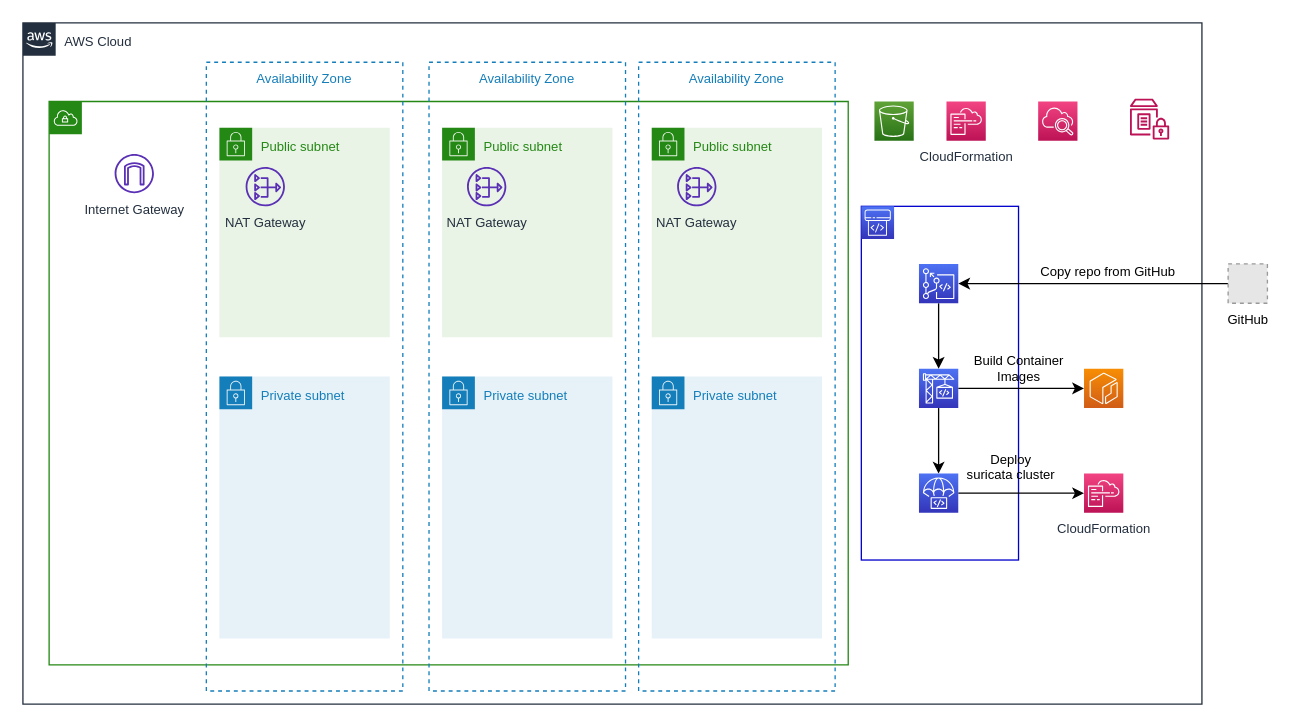
Some shapes in this 1290 by 727 pixel diagram are drawn without their labels. Grey dashed boxes stand in for pictures. Here are the shapes that lost their labels. From the top down, the box of each, then its label:
(873, 100, 914, 141): S3
(1037, 100, 1077, 141): Cloudwatch
(1129, 98, 1169, 139): Parameter Store
(918, 263, 958, 303): CodeCommit
(48, 100, 848, 665): Appliance VPC
(918, 367, 958, 408): CodeBuild
(1083, 367, 1123, 408): Elastic Container Registry
(918, 472, 958, 513): Deploy CloudFormation
